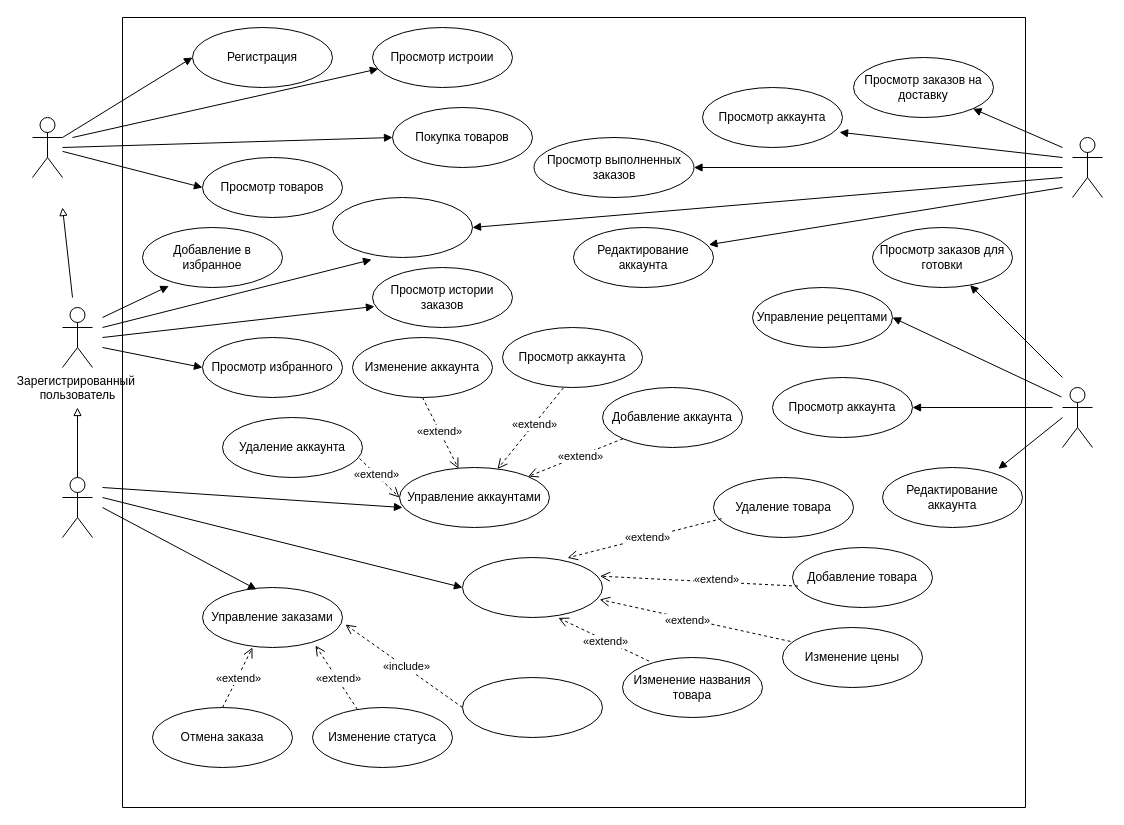
The diagram is 1124 pixels wide and 825 high, and some of its shapes have lost their labels. Here are the shapes that lost their labels. From the top down, the box of each, then its label:
(32, 116, 62, 178): Гость
(1072, 136, 1102, 198): Курьер
(332, 196, 472, 258): Авторизация
(1062, 386, 1092, 448): Кондитер
(62, 476, 92, 538): Администратор
(462, 556, 602, 618): Управление товарами
(462, 676, 602, 738): Просмотр заказов
